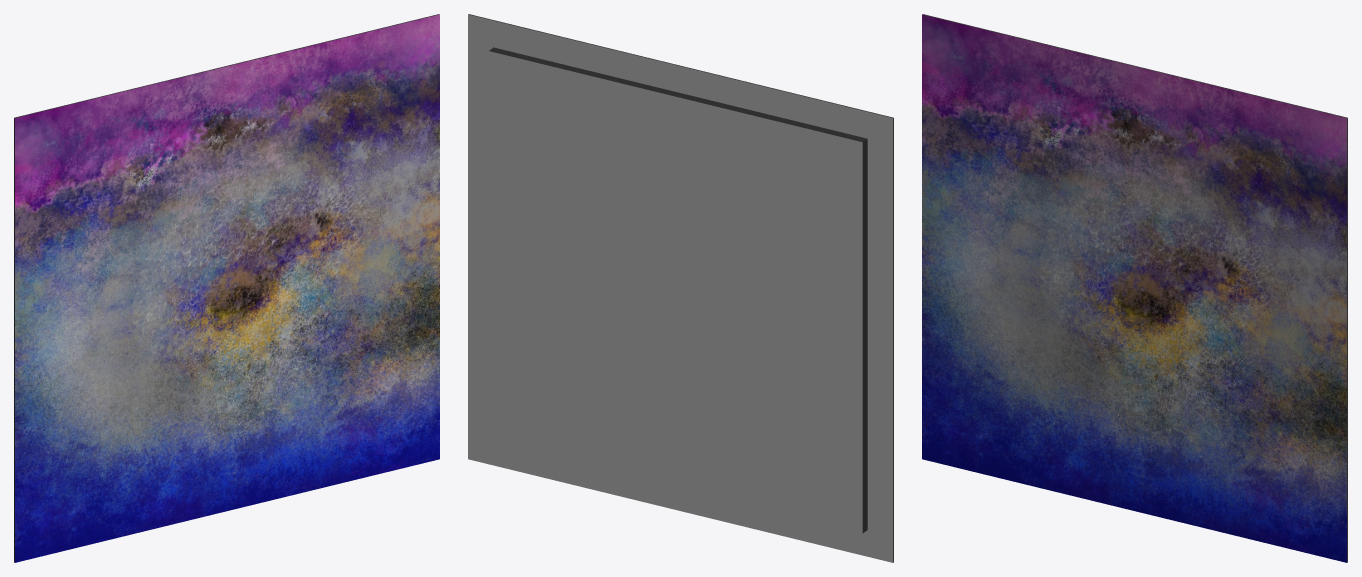
File: va286_grand_dibond.glb
3 views of the same model, side by side, from view 1: azimuth 30°, elevation 25°; view 2: azimuth 150°, elevation 25°; view 3: azimuth 330°, elevation 25° (orthographic).
Parts seen in each view (by area): view 1: va286_grand_dibond; view 2: va286_grand_dibond; view 3: va286_grand_dibond.
Part boxes in pixels (<box>): va286_grand_dibond: <box>14,14,439,562</box>; va286_grand_dibond: <box>468,14,893,562</box>; va286_grand_dibond: <box>922,14,1347,562</box>.
Size of the model in its own units: 1 by 1 by 0.023.
4 materials, 1 textured.
